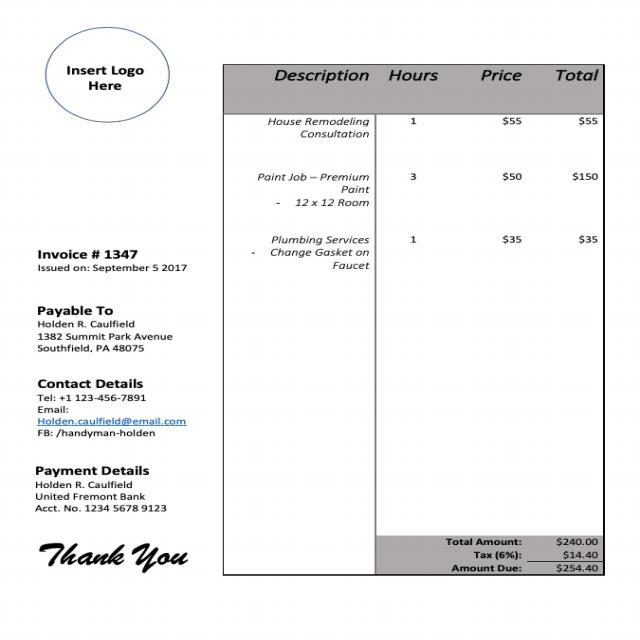customer_name: (34, 317, 144, 330)
invoice_date: (90, 261, 190, 275)
invoice_number: (89, 248, 143, 262)
invoice_subtotal: (554, 532, 603, 547)
invoice_total: (550, 562, 603, 575)
item_description: (248, 116, 373, 276)
item_quantity: (397, 114, 428, 254)
item_total_price: (568, 116, 603, 257)
item_unit_price: (492, 115, 531, 256)
supplier_address: (34, 329, 178, 359)
tax_amount: (557, 547, 602, 559)
tax_rate: (498, 548, 516, 560)
